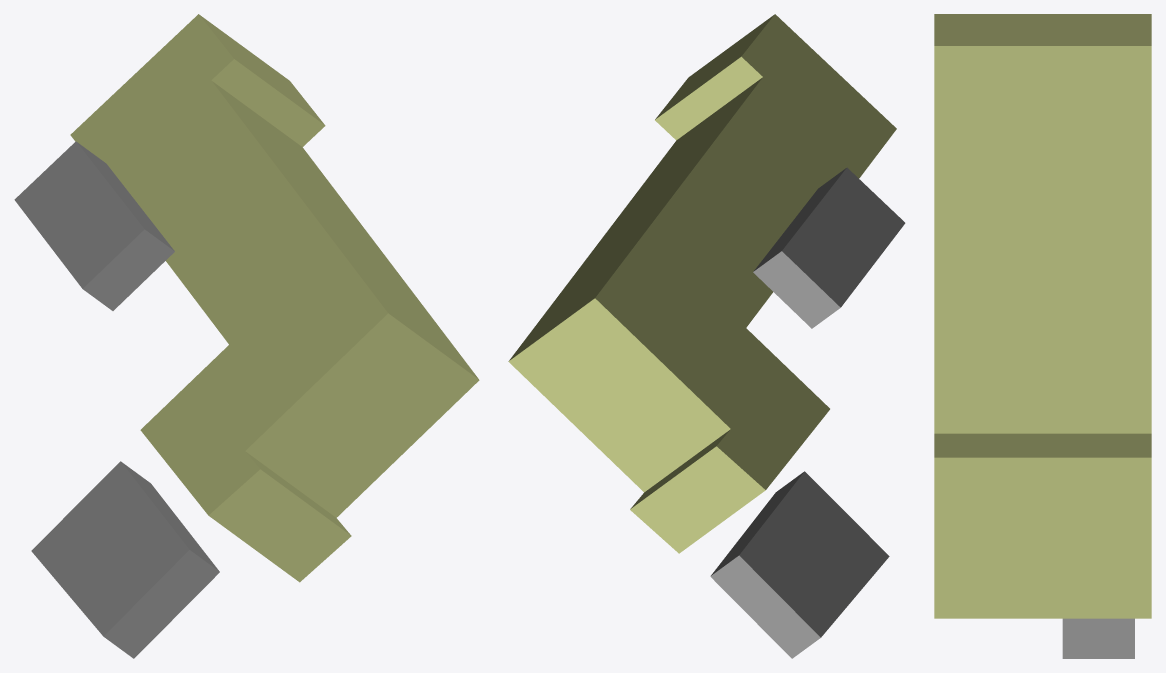
The picture shows the model from 3 angles, left to right: view 1: azimuth 30°, elevation 25°; view 2: azimuth 150°, elevation 25°; view 3: azimuth 270°, elevation 25°; orthographic projection. The views are drawn at different scales.
Parts seen in each view (by area): view 1: 0_1_1_3_2_0_2_3_3; view 2: 0_1_1_3_2_0_2_3_3; view 3: 0_1_1_3_2_0_2_3_3.
Part boxes in pixels (x1=…): 0_1_1_3_2_0_2_3_3: x1=14, y1=14, x2=479, y2=658; 0_1_1_3_2_0_2_3_3: x1=508, y1=14, x2=905, y2=658; 0_1_1_3_2_0_2_3_3: x1=934, y1=14, x2=1151, y2=658.
Size of the model in its own units: 21.67 by 32.21 by 9.
